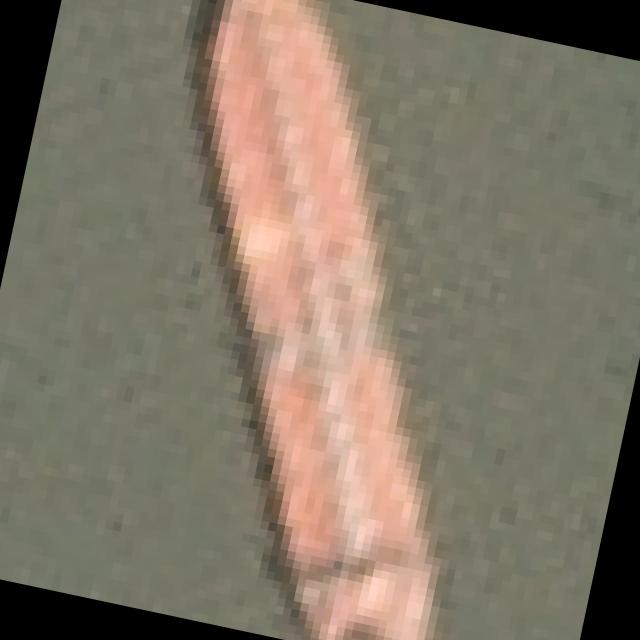ship: (58, 0, 593, 640)
